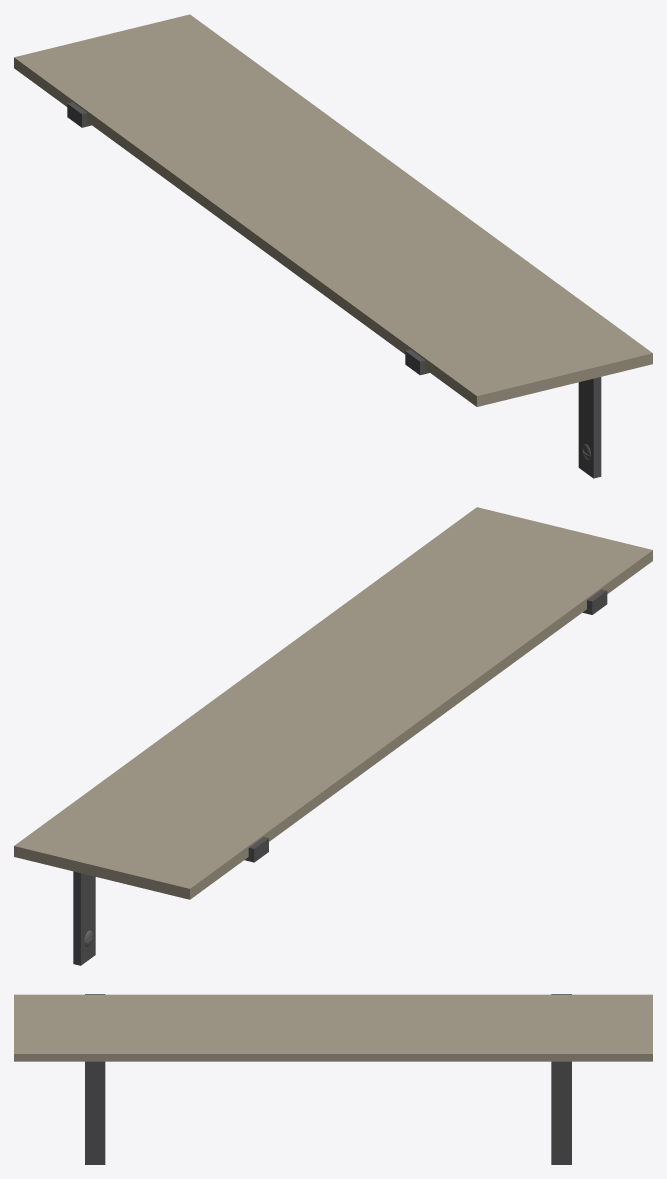
The model's file is Shelf.fbx.
3 views of the same model, one above another, from view 1: azimuth 30°, elevation 25°; view 2: azimuth 150°, elevation 25°; view 3: azimuth 270°, elevation 25° (orthographic). The views are drawn at different scales.
Visible parts, largest first — view 1: Base_shelf, Brace1; view 2: Base_shelf, Brace; view 3: Base_shelf, Brace, Brace1.
Part boxes in pixels (box(x1,y1,x2,y2)): Base_shelf: box(14, 14, 652, 406); Brace1: box(405, 349, 601, 478); Base_shelf: box(14, 507, 652, 899); Brace: box(73, 837, 268, 965); Base_shelf: box(14, 994, 652, 1061); Brace: box(551, 994, 571, 1164); Brace1: box(85, 994, 105, 1164).
Size of the model in its own units: 0.9954 by 0.8431 by 4.4.
